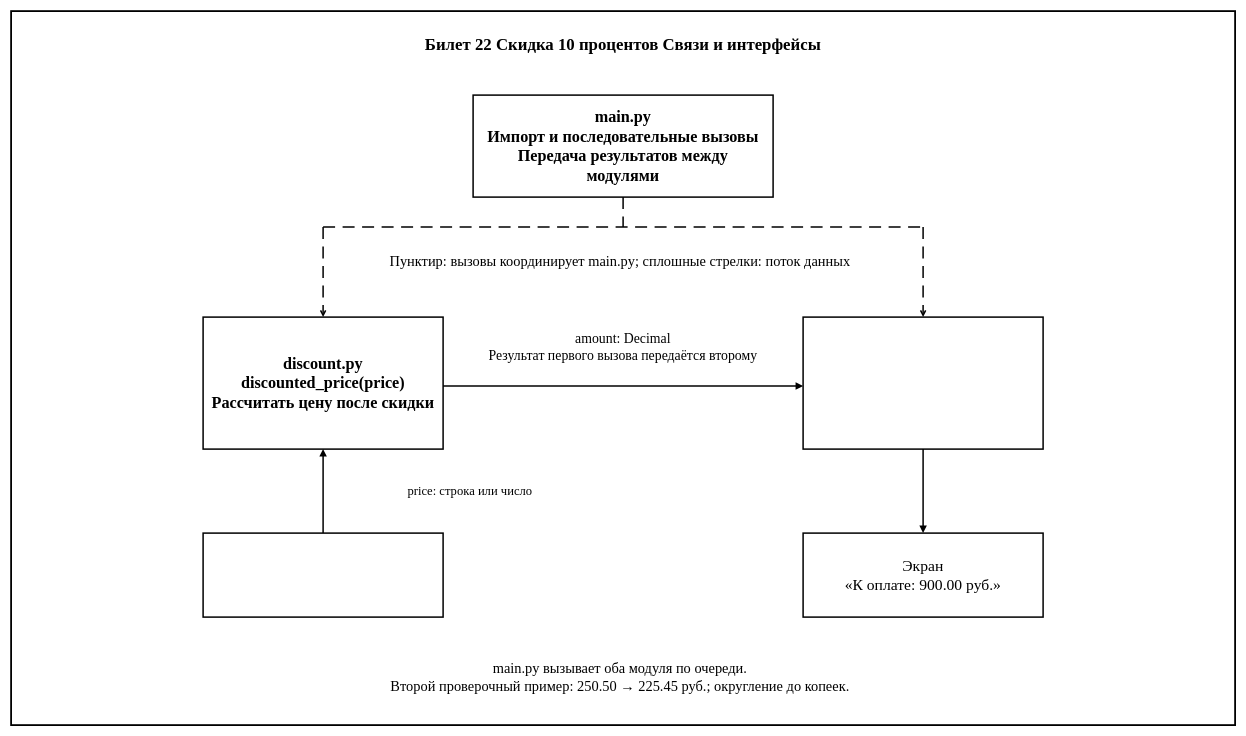
This 1246x736 diagram has some shape labels left out. Here are the shapes that lost their labels. From the top down, the centre of each, then its label:
the point at 923,383: formatting.py format_price(amount) Сформировать текст суммы
the point at 323,575: Исходные данные price = «1000.00»
